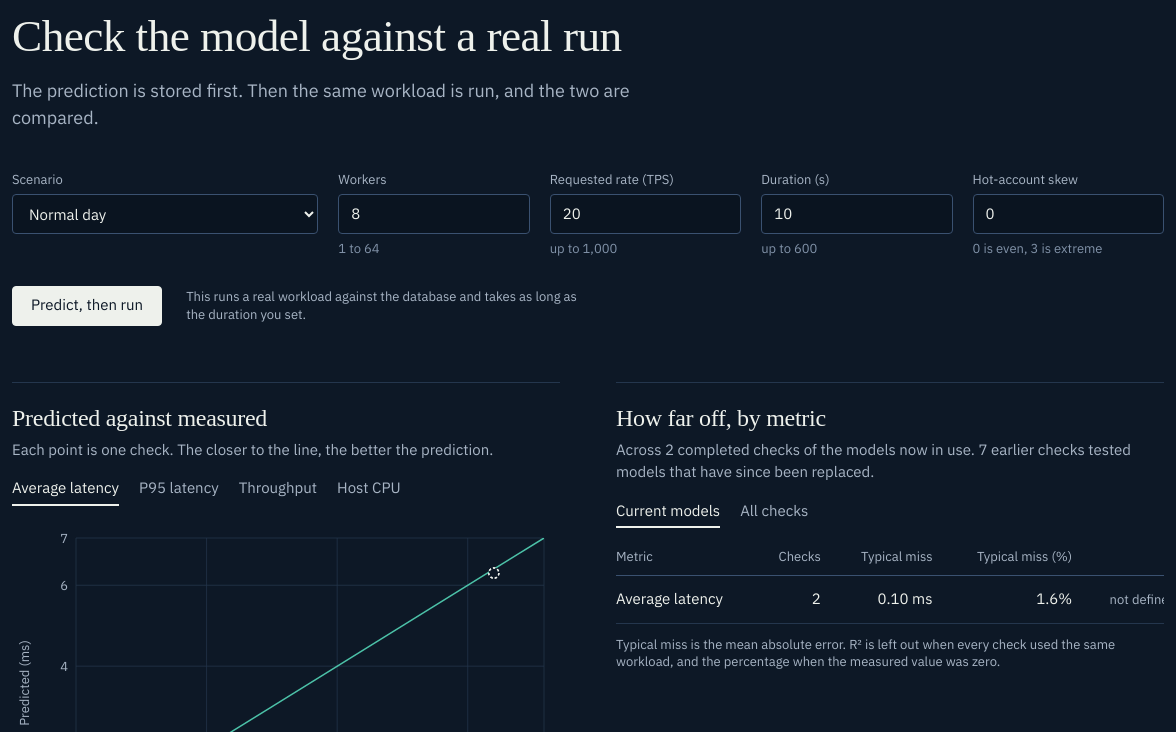
Test case: Validation › shows every check on request
Click the button "All checks" at (774, 512), box left=740, top=496, right=808, bottom=528
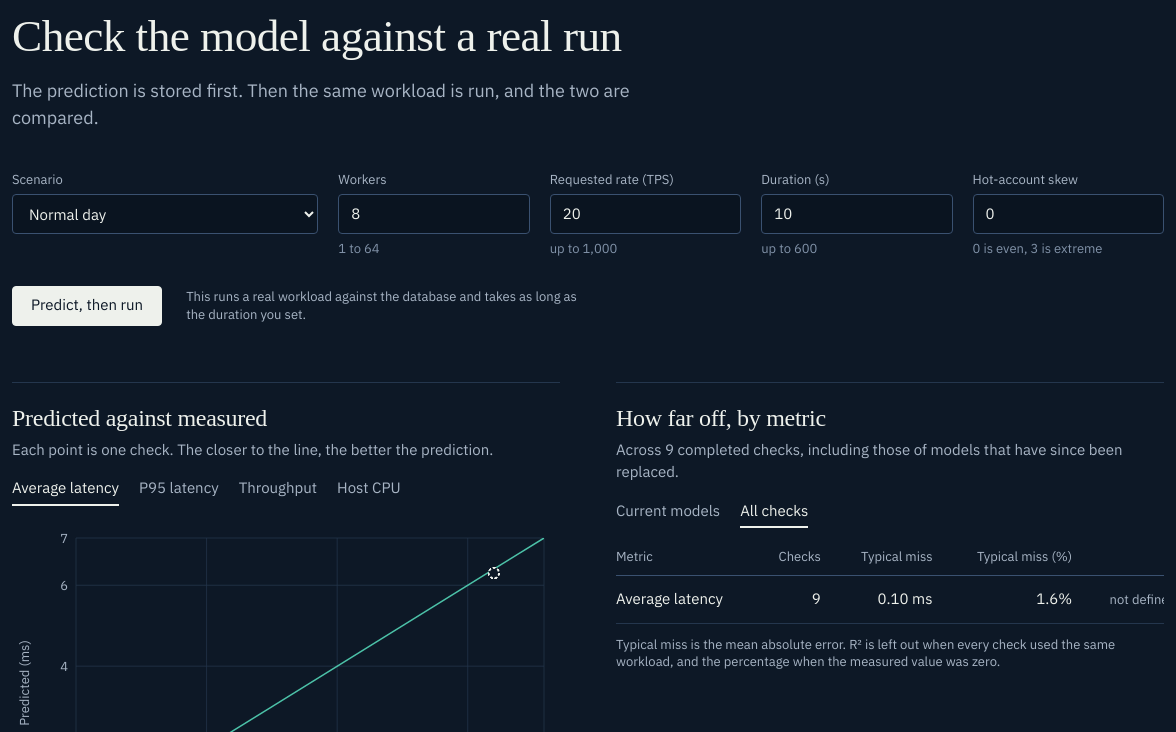
Check: the text "Across 9 completed checks, including those of models that have since been replaced." is shown, box left=616, top=440, right=1122, bottom=481
